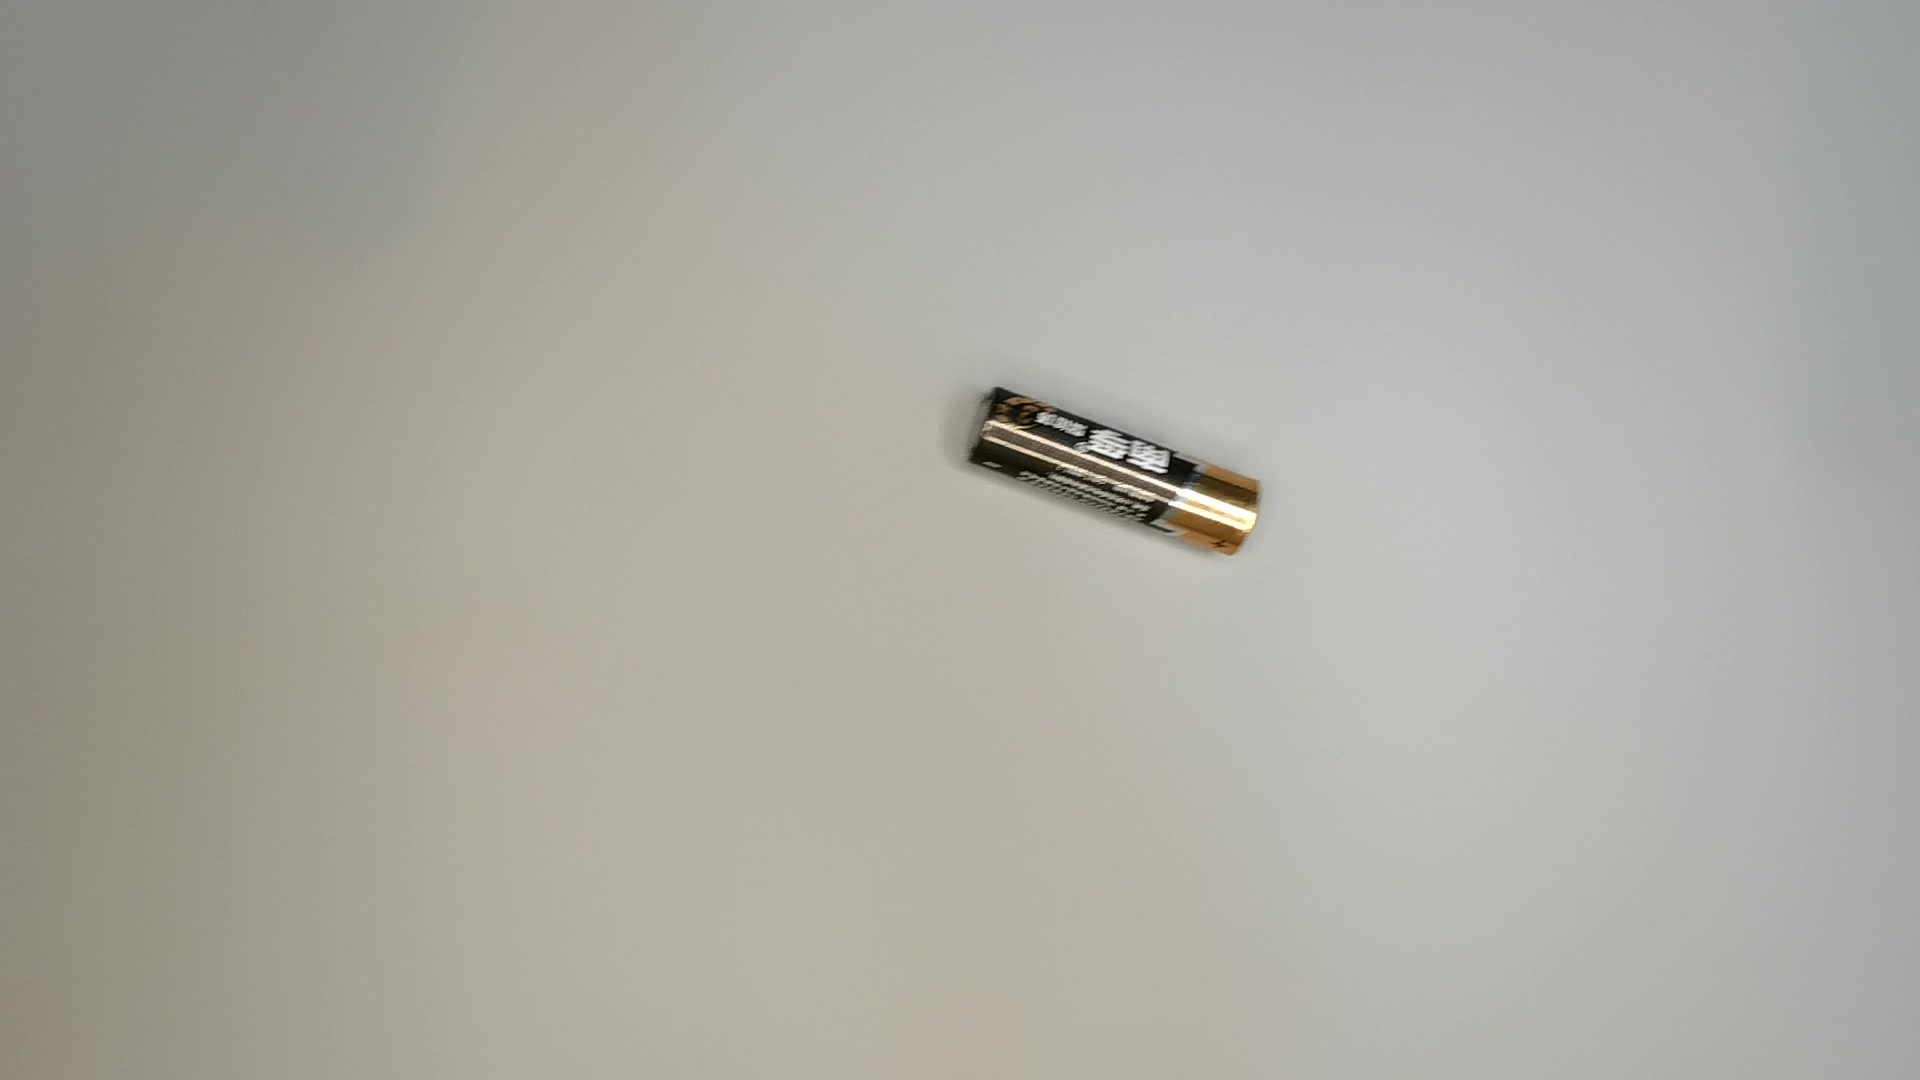battery: (959, 380, 1275, 564)
